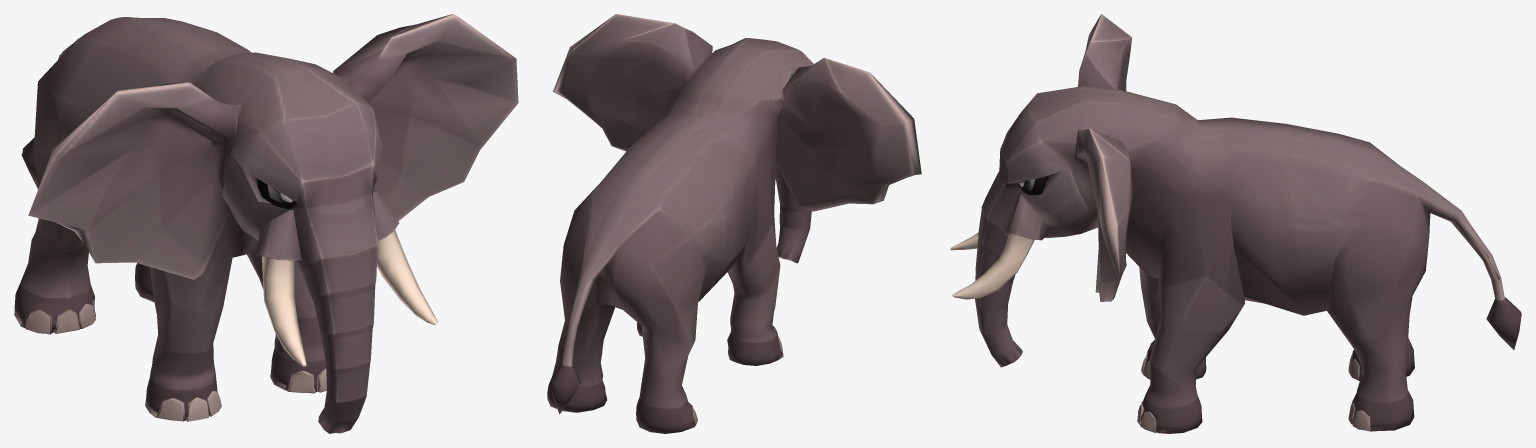
The model's file is creature_elephant_forge.glb.
3 views of the same model, side by side, from view 1: azimuth 30°, elevation 25°; view 2: azimuth 150°, elevation 25°; view 3: azimuth 270°, elevation 25° (orthographic). The views are drawn at different scales.
Bounding box in the file's own units: 0.7944 × 0.5767 × 0.9536.
Materials: 1 (1 with a texture image).
